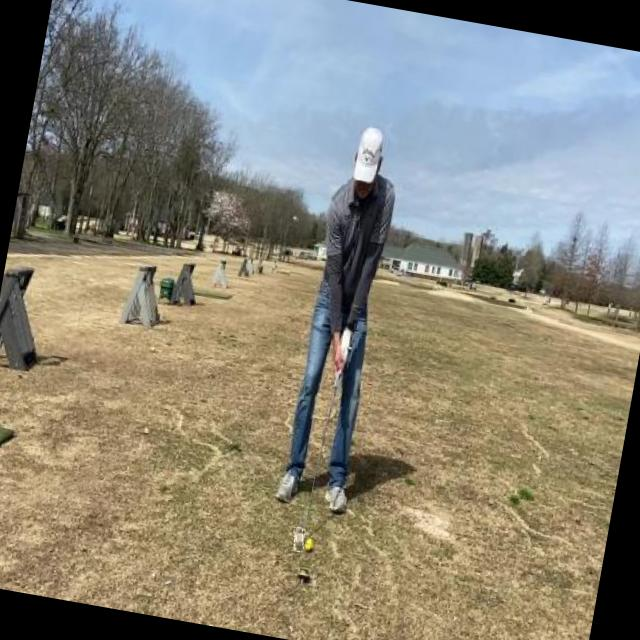club head: (292, 527, 306, 552)
